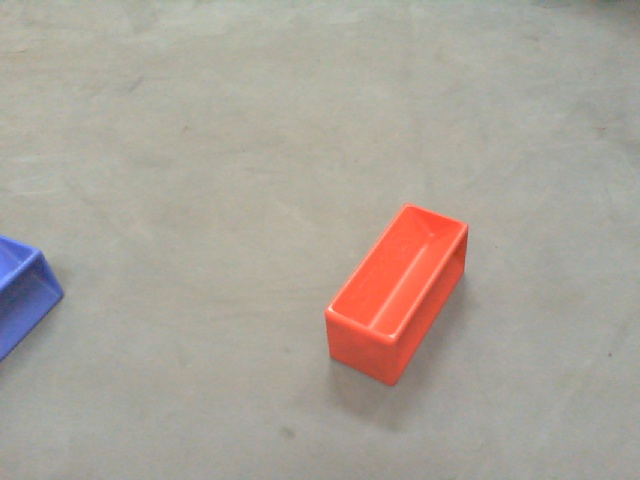BlueSample: (1, 225, 65, 371)
RedSample: (317, 198, 475, 386)
